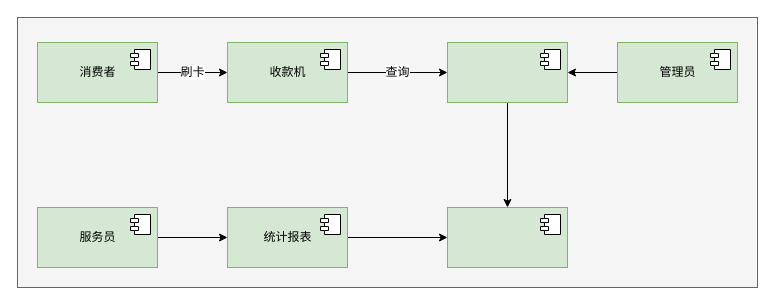
The diagram is 775 pixels wide and 305 high, and some of its shapes have lost their labels. The shapes that lost their labels are listed below. From the top down, each one's centre as x and y in pixels, then its label:
(x=507, y=72): 卡管理
(x=507, y=237): 数据库
